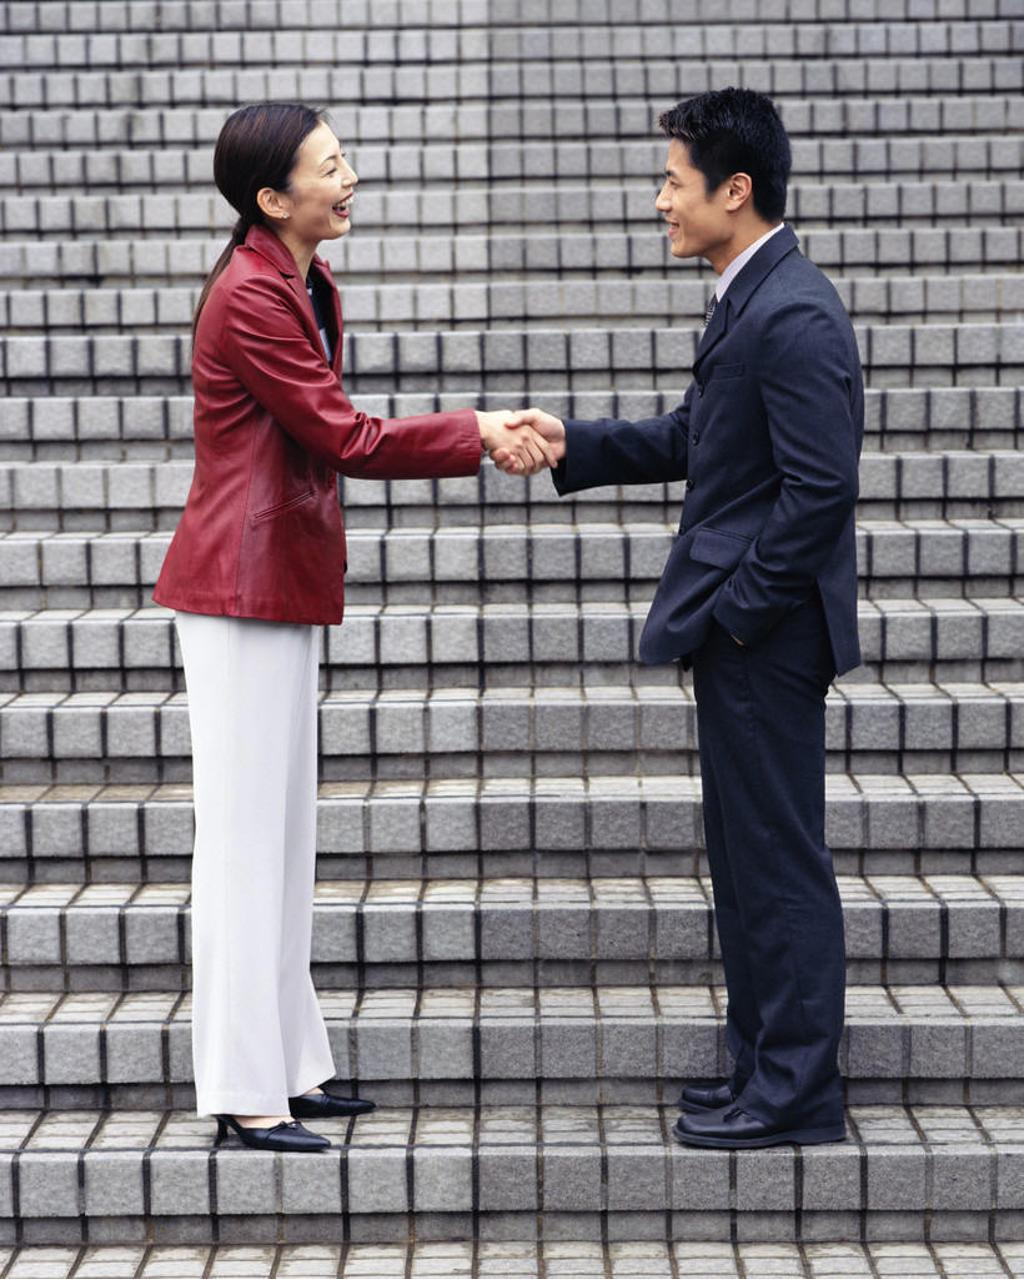face: (657, 137, 724, 259), (287, 125, 357, 240)
